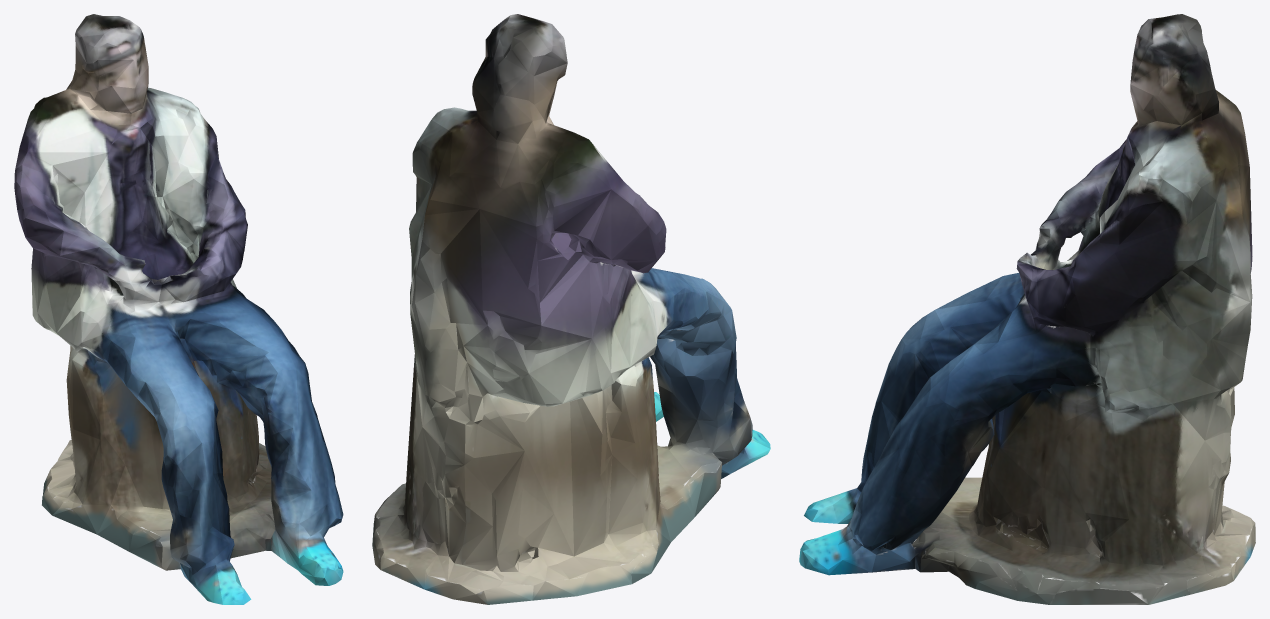
File: kakashi_21b.fbx
3 renders of one model, left to right at view 1: azimuth 30°, elevation 25°; view 2: azimuth 150°, elevation 25°; view 3: azimuth 270°, elevation 25°, orthographic. The views are drawn at different scales.
Visible parts, largest first — view 1: kakashi_21:Mesh; view 2: kakashi_21:Mesh; view 3: kakashi_21:Mesh.
Boxes of the visible parts, box(x1,y1,x2,y2) form: kakashi_21:Mesh: box(14, 14, 343, 604); kakashi_21:Mesh: box(372, 14, 770, 604); kakashi_21:Mesh: box(799, 14, 1255, 604).
Size of the model in its own units: 11.24 by 20.8 by 16.84.
1 material, 1 textured.
